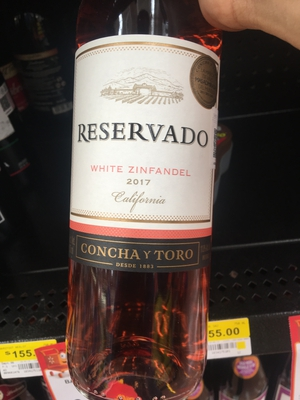reservado white zinfandel: (55, 16, 231, 400)
